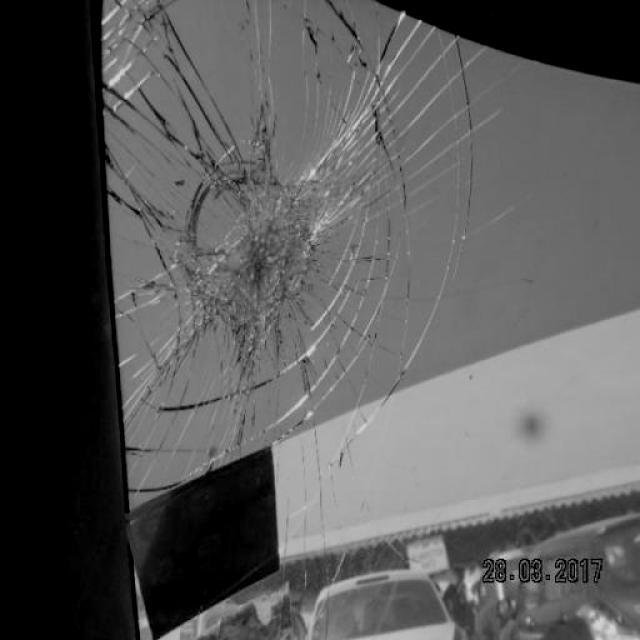car damage: (164, 127, 347, 360)
